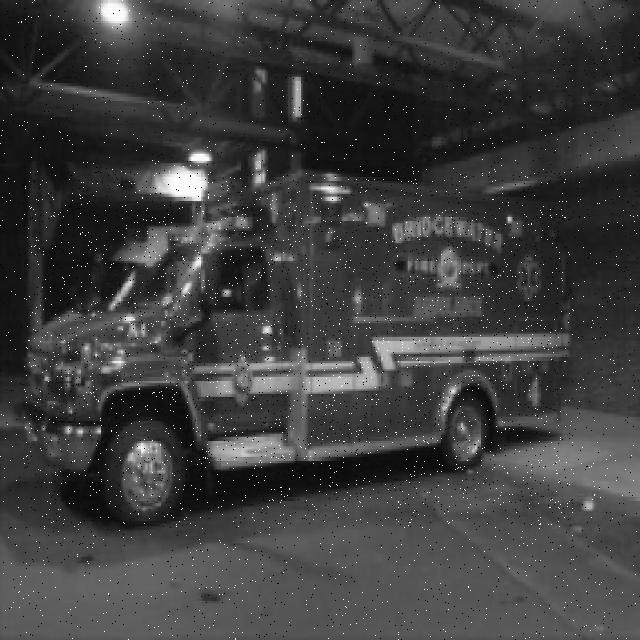Ambulance: (24, 171, 573, 528)
